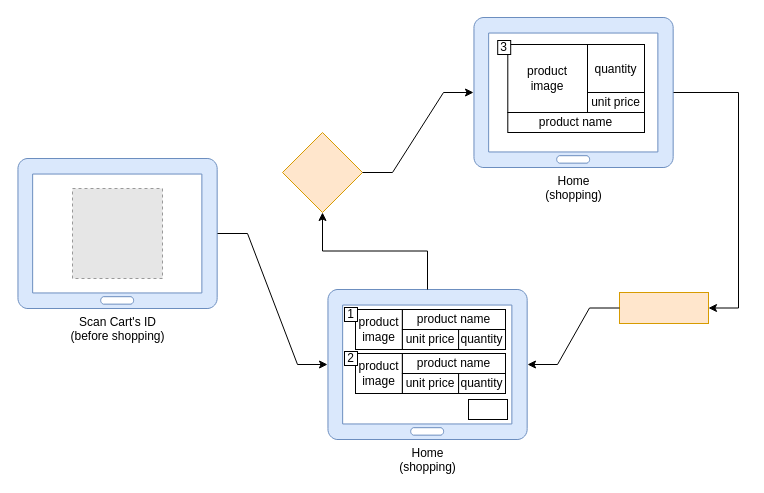
Some shapes in this 764 by 493 pixel diagram are drawn without their labels. Grey dashed boxes stand in for pictures. The shapes that lost their labels are listed below. From the top down, each one's centre as x and y in pixels, then its label:
At (322,172): "detection event".
At (663,308): "delay or touch".
At (488,409): "total".
